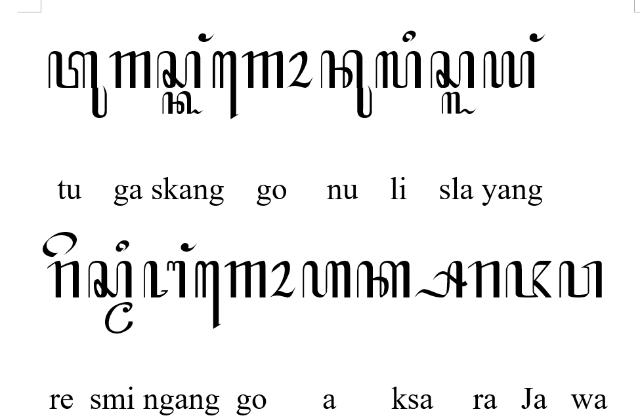_k: (162, 91, 202, 115)
_l: (442, 91, 476, 115)
_m: (105, 302, 134, 334)
_s: (414, 260, 468, 299)
e: (42, 232, 78, 258)
e1: (194, 260, 222, 330), (212, 50, 238, 120)
g: (109, 50, 151, 90), (242, 50, 284, 90), (225, 261, 268, 299)
h: (356, 260, 410, 298), (303, 261, 352, 299)
i: (402, 29, 416, 43), (116, 240, 130, 254)
j: (506, 261, 552, 299)
l: (375, 51, 421, 89)
ng: (198, 32, 215, 44), (180, 243, 198, 253), (529, 33, 545, 43)
nga: (142, 260, 186, 299)
nu: (320, 50, 372, 118)
o: (286, 51, 314, 88), (270, 261, 296, 299)
r: (466, 260, 500, 299), (46, 261, 80, 299)
s: (430, 50, 474, 90), (157, 51, 201, 89), (88, 260, 132, 298)
tu: (48, 50, 108, 118)
w: (559, 260, 603, 299)
y: (483, 50, 535, 90)
